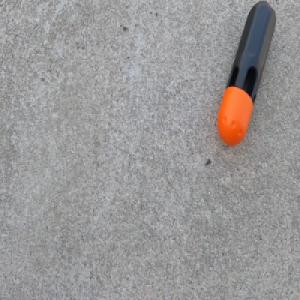PlasticPart: (215, 0, 276, 147)
